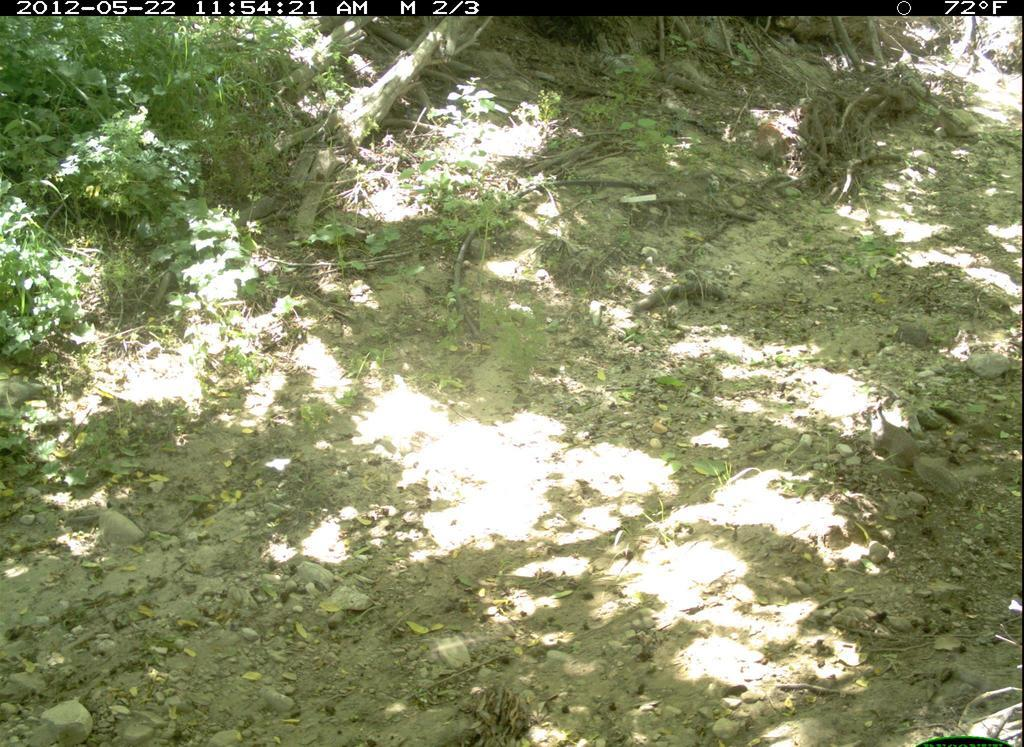squirrel: (856, 400, 968, 504)
